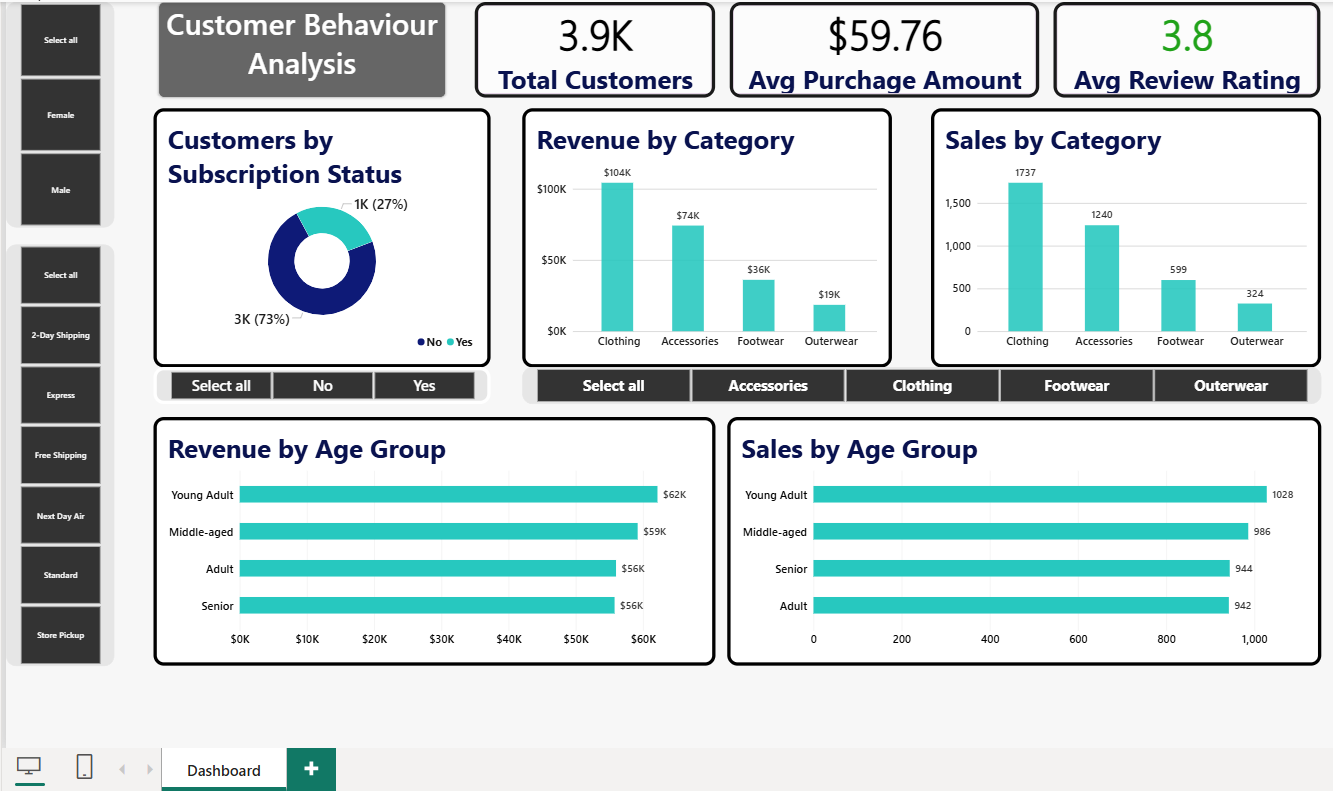

Layout of this report page (visuals, bound fields, positions):
{"tool":"powerbi","page":{"name":"Dashboard","canvas":[1920,1080],"ordinal":0},"visuals":[{"type":"textbox","box":[220,0,416,138],"z":0},{"type":"cardVisual","fields":{"Data":["Measures Table.Total Customers"]},"box":[678,0,348,138],"z":1000},{"type":"cardVisual","fields":{"Data":["Measures Table.Avg Purchage Amount"]},"box":[1047.2,0,448.3,138.3],"z":2000},{"type":"cardVisual","fields":{"Data":["Measures Table.Avg Review Rating"]},"box":[1516.7,0,386.7,138.3],"z":3000},{"type":"donutChart","title":"Customers by Subscription Status","fields":{"Series":["customer_behavior customer.subscription_status"],"Y":["Measures Table.Total Customers"]},"box":[213.3,153.3,488.3,375],"z":4000},{"type":"clusteredColumnChart","title":"Revenue by Category","fields":{"Category":["customer_behavior customer.category"],"Y":["Sum(customer_behavior customer.purchase_amount_usd)"]},"box":[746.7,153.3,535,375],"z":4001},{"type":"clusteredColumnChart","title":"Sales by Category","fields":{"Category":["customer_behavior customer.category"],"Y":["CountNonNull(customer_behavior customer.customer_id)"]},"box":[1338.3,153.3,565,375],"z":4002},{"type":"slicer","fields":{"Values":["customer_behavior customer.subscription_status"]},"box":[213.3,528.3,488.3,53.3],"z":4003},{"type":"slicer","title":"Gender","fields":{"Values":["customer_behavior customer.gender"]},"box":[0,0,156.7,326.7],"z":4004},{"type":"slicer","fields":{"Values":["customer_behavior customer.category"]},"box":[746.7,528.3,1156.7,53.3],"z":4005},{"type":"slicer","fields":{"Values":["customer_behavior customer.shipping_type"]},"box":[0,351.7,156.7,610],"z":4006},{"type":"clusteredBarChart","title":"Revenue by Age Group","fields":{"Category":["customer_behavior customer.age_group"],"Y":["Sum(customer_behavior customer.purchase_amount_usd)"]},"box":[213.3,601.7,813.3,360],"z":4007},{"type":"clusteredBarChart","title":"Sales by Age Group","fields":{"Category":["customer_behavior customer.age_group"],"Y":["CountNonNull(customer_behavior customer.customer_id)"]},"box":[1043.3,601.7,860,360],"z":4008}]}

Visuals, with their boxes in screenshot pixels (x1, y1, x2, y2):
textbox: [161,0,446,94]
cardVisual - Measures Table.Total Customers: [475,0,713,94]
cardVisual - Measures Table.Avg Purchage Amount: [727,0,1034,95]
cardVisual - Measures Table.Avg Review Rating: [1049,0,1314,95]
"Customers by Subscription Status" donutChart: [156,105,491,362]
"Revenue by Category" clusteredColumnChart: [522,105,888,362]
"Sales by Category" clusteredColumnChart: [927,105,1314,362]
slicer - customer_behavior customer.subscription_status: [156,362,491,398]
"Gender" slicer: [10,0,118,224]
slicer - customer_behavior customer.category: [522,362,1314,398]
slicer - customer_behavior customer.shipping_type: [10,241,118,658]
"Revenue by Age Group" clusteredBarChart: [156,412,713,658]
"Sales by Age Group" clusteredBarChart: [725,412,1314,658]
